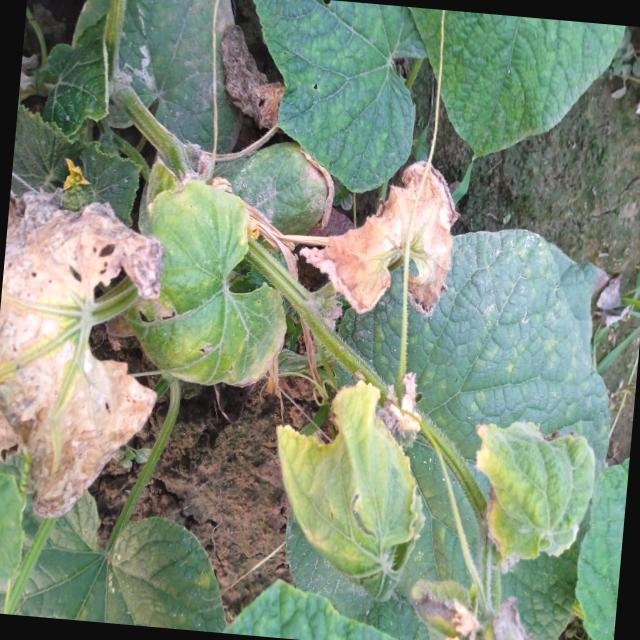cucumber_bacterial: (0, 169, 170, 494), (239, 356, 452, 608), (305, 150, 466, 304)
